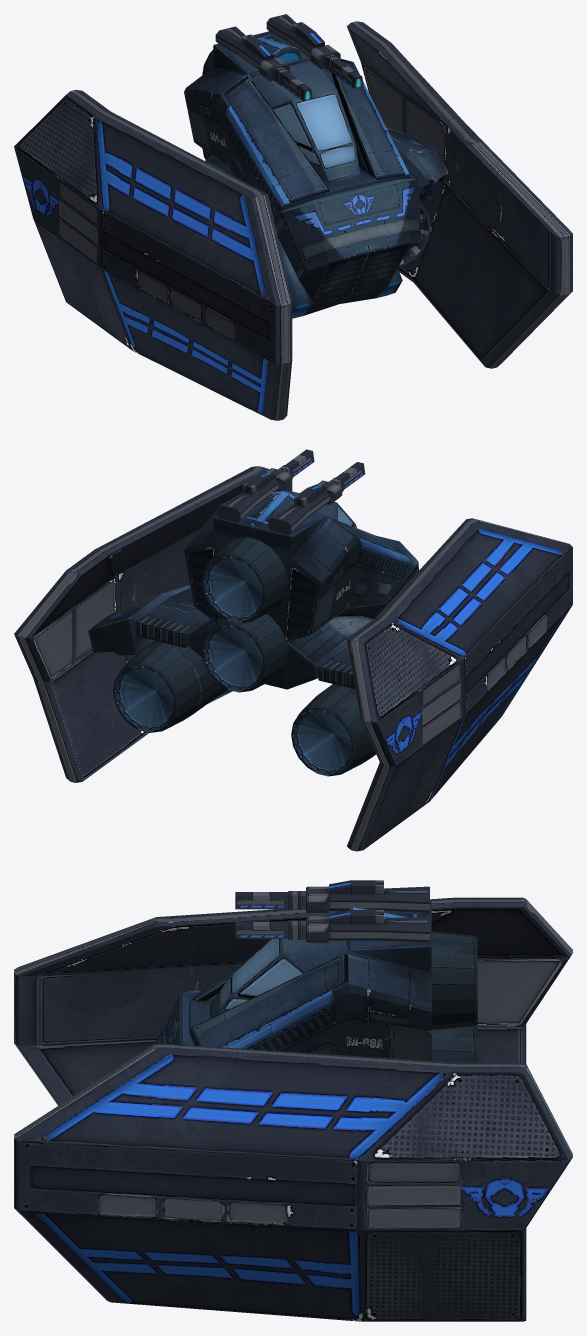
The model's file is Blue_drone_02.FBX.
3 views of the same model, one above another, from view 1: azimuth 30°, elevation 25°; view 2: azimuth 150°, elevation 25°; view 3: azimuth 270°, elevation 25° (orthographic). The views are drawn at different scales.
Visible parts, largest first — view 1: Body_wing, Body; view 2: Body_wing, Body; view 3: Body_wing, Body.
Boxes of the visible parts, x1,y1,x2,y2 form: Body_wing: [14, 14, 572, 420]; Body: [184, 31, 448, 318]; Body_wing: [14, 449, 572, 851]; Body: [88, 490, 418, 776]; Body_wing: [14, 880, 572, 1321]; Body: [155, 900, 477, 1062].
Bounding box in the file's own units: 14.84 × 10.97 × 16.44.
